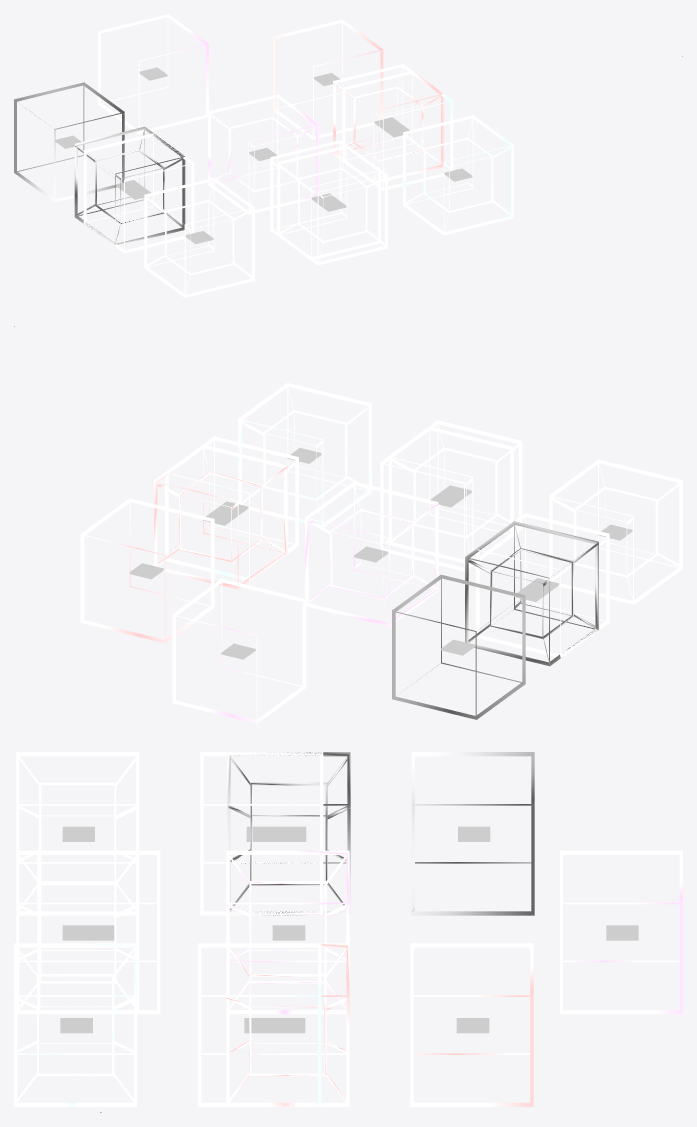
Rendered from tokenscubes_all_colors.fbx.
The picture shows the model from 3 angles, top to bottom: view 1: azimuth 30°, elevation 25°; view 2: azimuth 150°, elevation 25°; view 3: azimuth 270°, elevation 25°; orthographic projection. The views are drawn at different scales.
Visible parts, largest first — view 1: Cube_012, Cube, Cube_011, Cube_017, Cube_006, Cube_005, Cube_029, Cube_018, Cube_024, Cube_030, Cube_023, Cube_035; view 2: Cube_006, Cube_012, Cube, Cube_017, Cube_005, Cube_011, Cube_029, Cube_030, Cube_018, Cube_024, Cube_023, Cube_035; view 3: Cube, Cube_006, Cube_005, Cube_012, Cube_011, Cube_017, Cube_029, Cube_030, Cube_018, Cube_023, Cube_035, Cube_024.
Boxes of the visible parts, <box> form: Cube_012: <box>144,177,254,297</box>; Cube: <box>403,115,513,235</box>; Cube_011: <box>277,145,387,265</box>; Cube_017: <box>74,126,185,246</box>; Cube_006: <box>208,94,318,214</box>; Cube_005: <box>333,64,443,183</box>; Cube_029: <box>98,14,208,134</box>; Cube_018: <box>14,82,124,202</box>; Cube_024: <box>270,140,380,259</box>; Cube_030: <box>272,19,383,139</box>; Cube_023: <box>83,133,194,253</box>; Cube_035: <box>342,71,453,190</box>; Cube_006: <box>305,481,438,626</box>; Cube_012: <box>549,459,682,604</box>; Cube: <box>238,383,371,527</box>; Cube_017: <box>465,521,598,666</box>; Cube_005: <box>154,444,287,589</box>; Cube_011: <box>388,420,522,563</box>; Cube_029: <box>172,578,306,723</box>; Cube_030: <box>80,498,214,643</box>; Cube_018: <box>392,574,525,719</box>; Cube_024: <box>380,426,513,571</box>; Cube_023: <box>476,513,609,657</box>; Cube_035: <box>165,436,298,581</box>; Cube: <box>14,943,136,1106</box>; Cube_006: <box>226,850,349,1014</box>; Cube_005: <box>226,943,349,1106</box>; Cube_012: <box>16,752,139,915</box>; Cube_011: <box>16,850,139,1014</box>; Cube_017: <box>227,752,350,915</box>; Cube_029: <box>560,850,682,1014</box>; Cube_030: <box>410,943,533,1106</box>; Cube_018: <box>411,752,534,915</box>; Cube_023: <box>200,752,323,915</box>; Cube_035: <box>198,943,321,1106</box>; Cube_024: <box>37,850,160,1014</box>.
Size of what is drawn, in the model's own units: 6.79 by 1.15 by 4.92.
